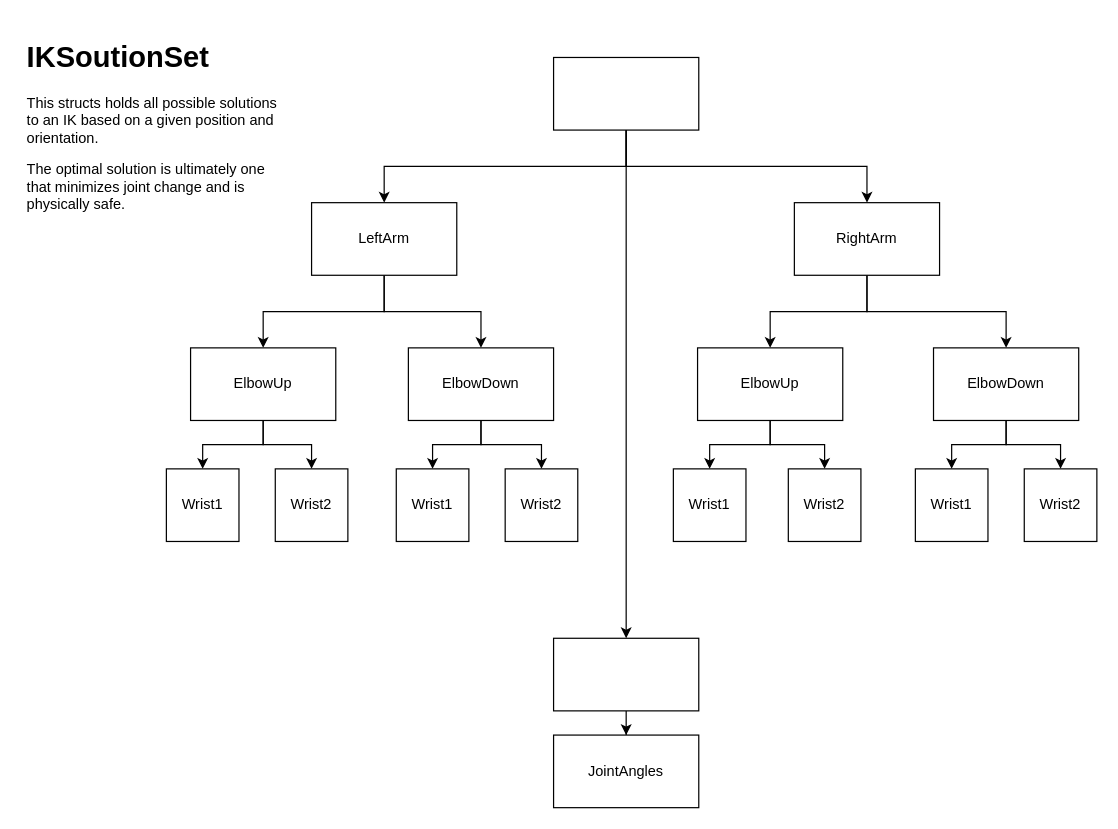
Some shapes in this 1118 by 829 pixel diagram are drawn without their labels. The centre of each missing label's shape, as x and y in pixels:
"CandidateSolution" belongs at point 625,674.
"IKSoutionSet" belongs at point 625,93.
